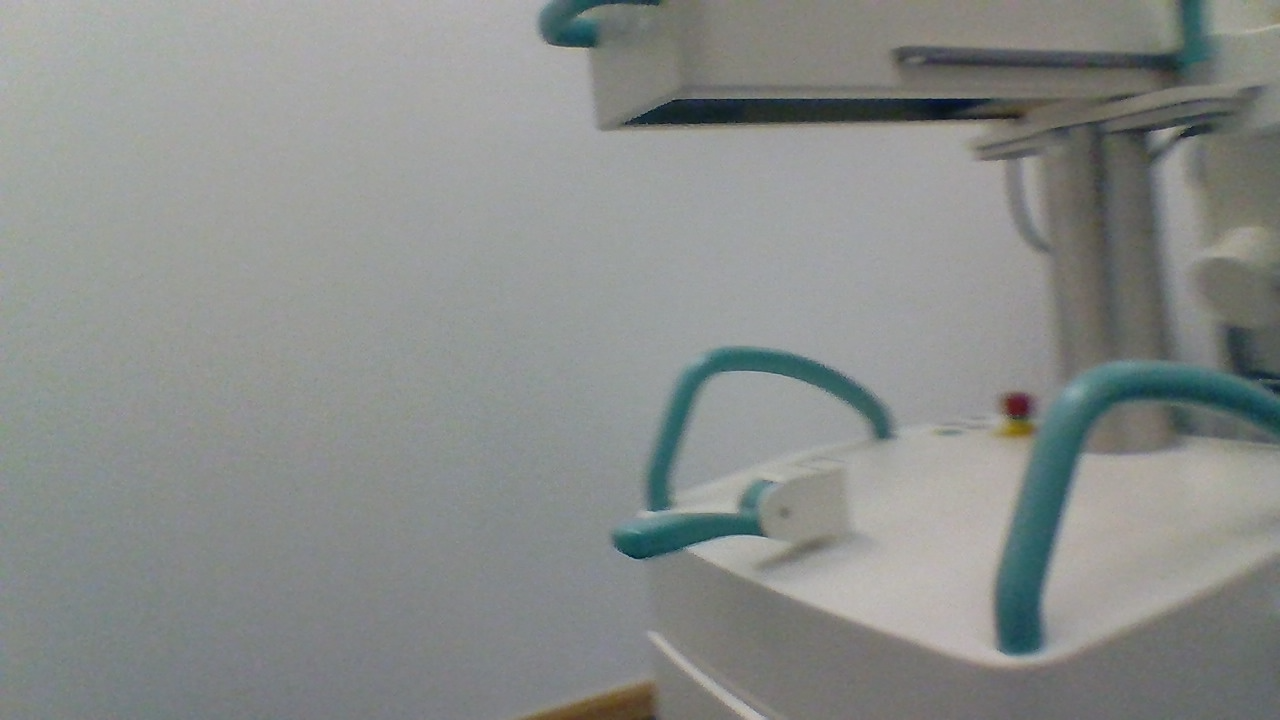carmBACK: (608, 453, 850, 563)
